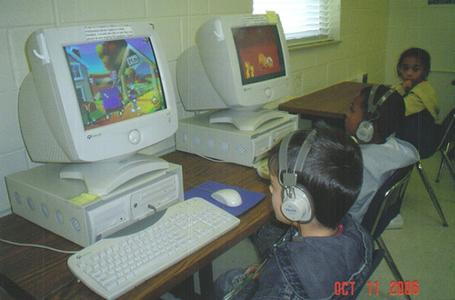person: (215, 127, 377, 300)
